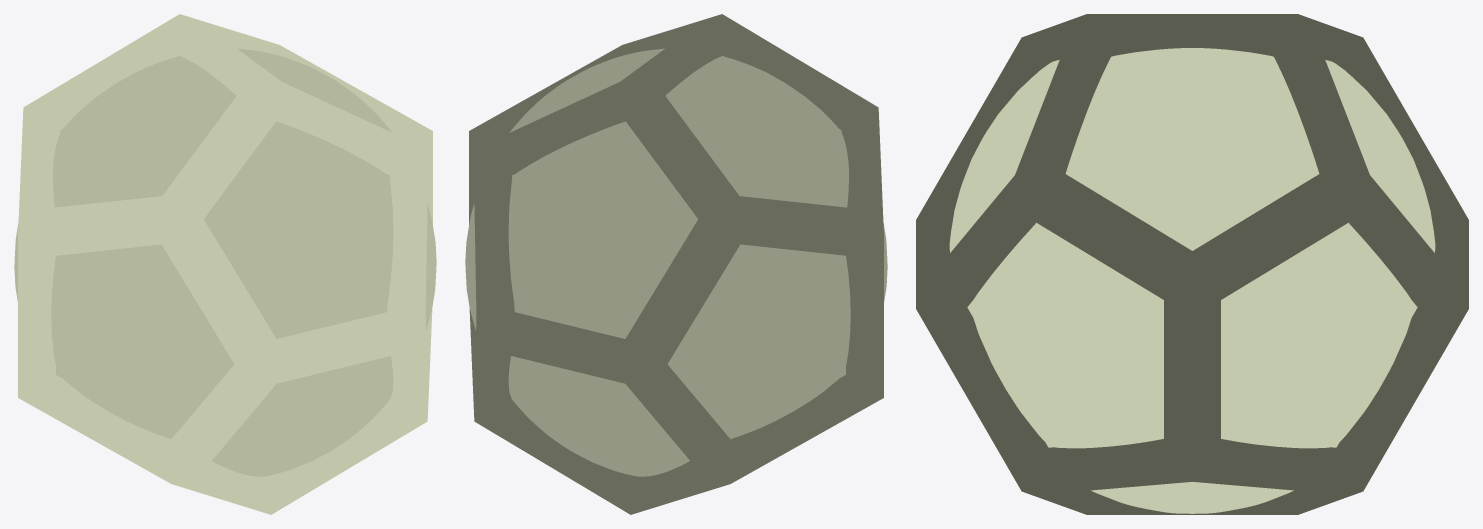
Rendered from subvr2.dae.
3 renders of one model, left to right at view 1: azimuth 30°, elevation 25°; view 2: azimuth 150°, elevation 25°; view 3: azimuth 270°, elevation 25°, orthographic. The views are drawn at different scales.
Visible parts, largest first — view 1: sphere2-0, dodecahedron1-0; view 2: sphere2-0, dodecahedron1-0; view 3: sphere2-0, dodecahedron1-0.
Boxes of the visible parts, x1,y1,x2,y2 form: sphere2-0: (14, 48, 436, 476); dodecahedron1-0: (18, 14, 432, 514); sphere2-0: (465, 48, 887, 476); dodecahedron1-0: (469, 14, 883, 514); sphere2-0: (949, 48, 1435, 513); dodecahedron1-0: (916, 14, 1468, 514).
Size of the model in its own units: 2.62 by 2.62 by 2.62.
